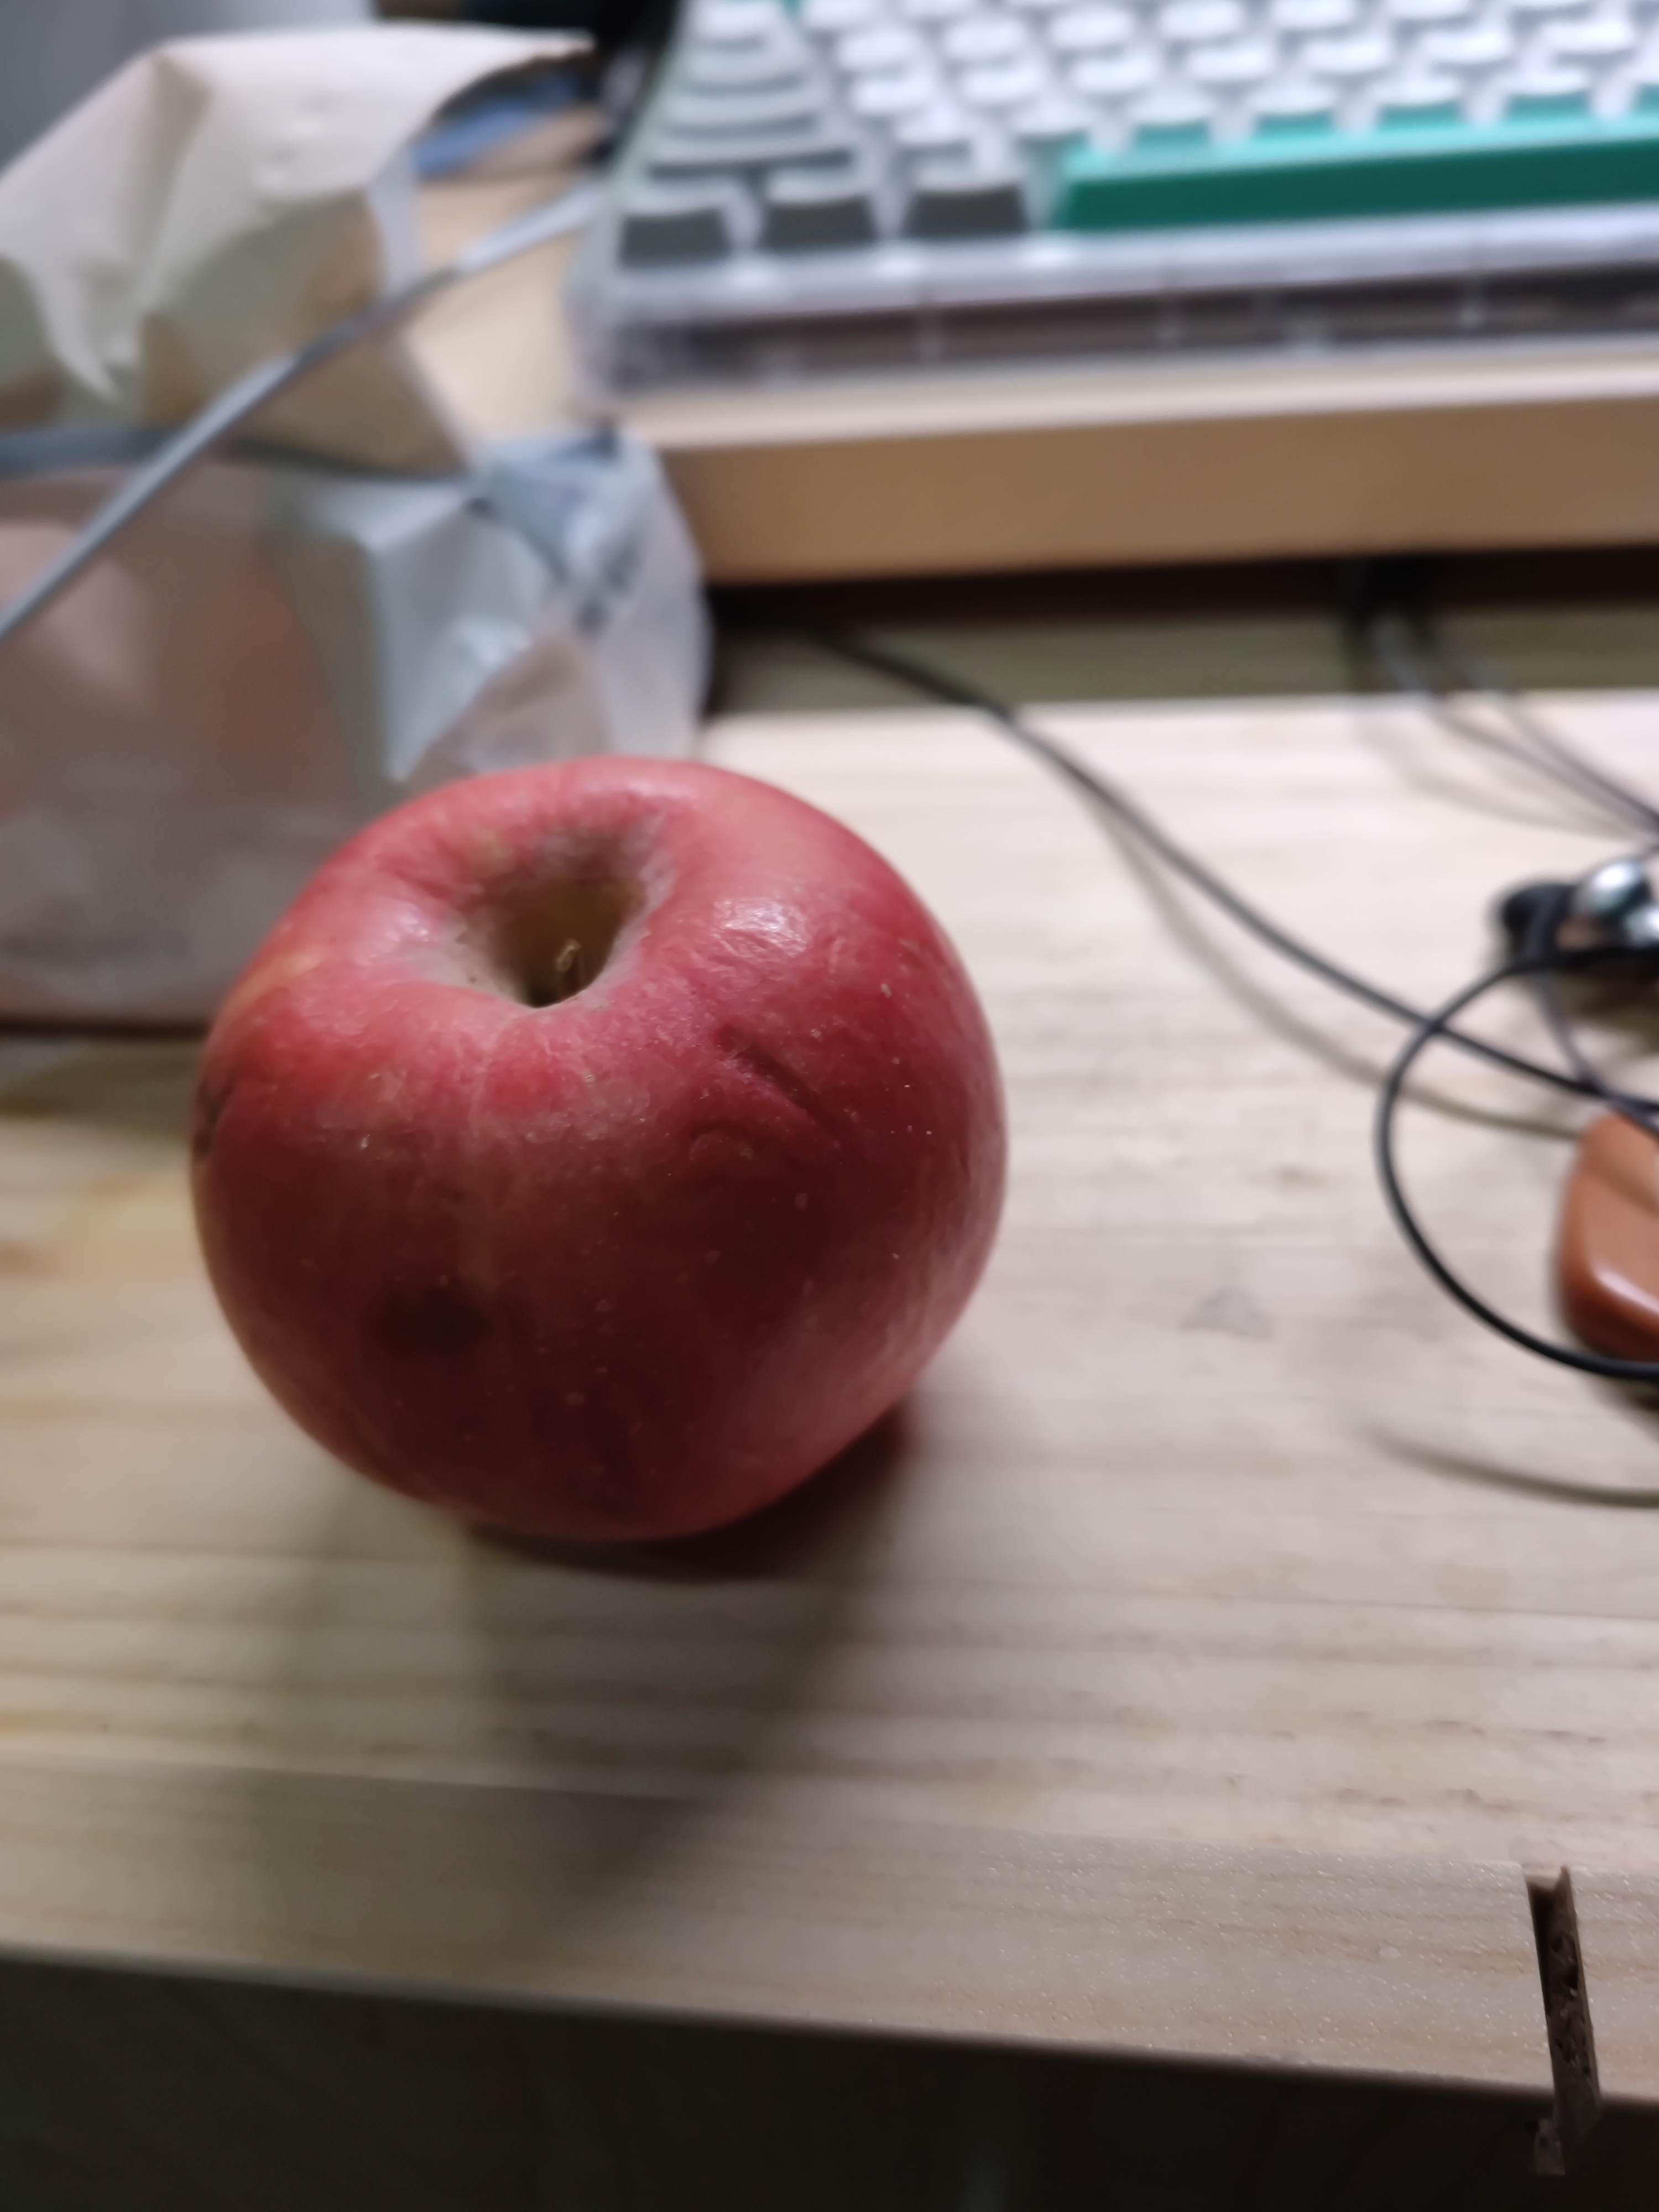apple: (200, 752, 1018, 1569)
